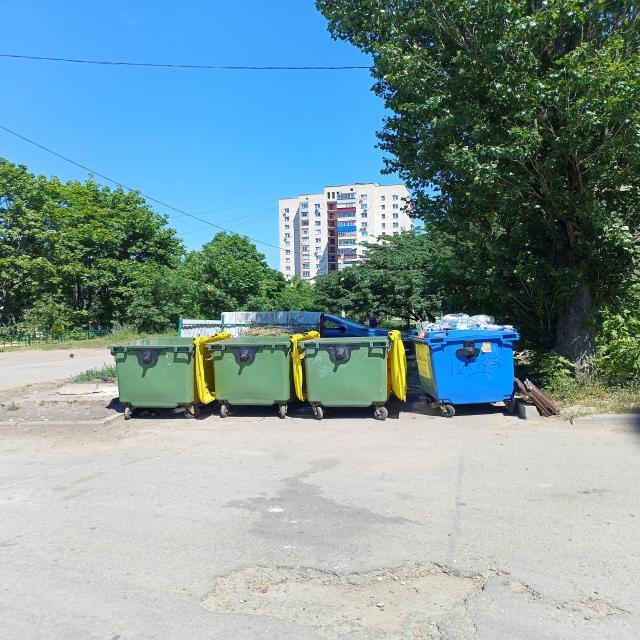bin: (104, 333, 400, 418), (412, 331, 518, 407)
plastic: (420, 311, 514, 333), (514, 378, 564, 418)
